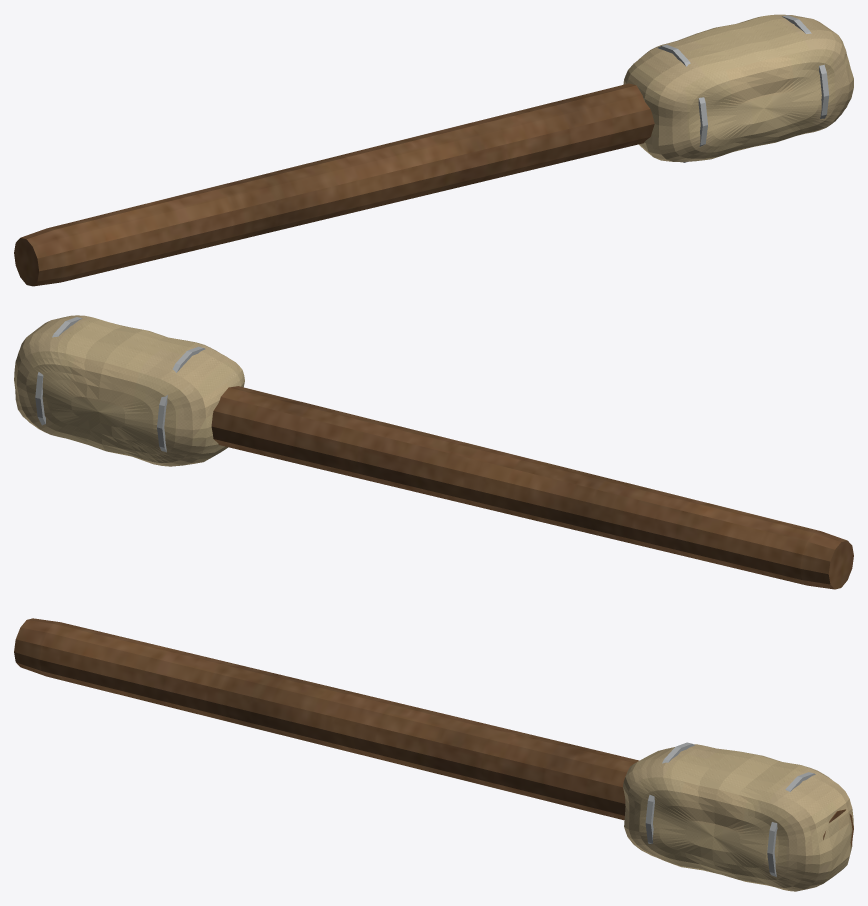
Rendered from tocha.glb.
3 views of the same model, one above another, from view 1: azimuth 30°, elevation 25°; view 2: azimuth 150°, elevation 25°; view 3: azimuth 330°, elevation 25° (orthographic).
Parts seen in each view (by area): view 1: tocha_madeira_lenha, tocha_trapo_bege, tocha_galvanizado; view 2: tocha_madeira_lenha, tocha_trapo_bege, tocha_galvanizado; view 3: tocha_madeira_lenha, tocha_trapo_bege, tocha_galvanizado.
Part boxes in pixels (x1,y1,x2,y2): tocha_madeira_lenha: (14, 83, 654, 286); tocha_trapo_bege: (623, 14, 853, 162); tocha_galvanizado: (657, 15, 829, 162); tocha_madeira_lenha: (14, 378, 853, 589); tocha_trapo_bege: (14, 315, 244, 466); tocha_galvanizado: (35, 317, 205, 452); tocha_madeira_lenha: (14, 618, 853, 846); tocha_trapo_bege: (623, 744, 853, 891); tocha_galvanizado: (645, 742, 815, 877).
Size of the model in its own units: 0.6036 by 0.077 by 0.077.
Materials: 4 (2 with a texture image).
